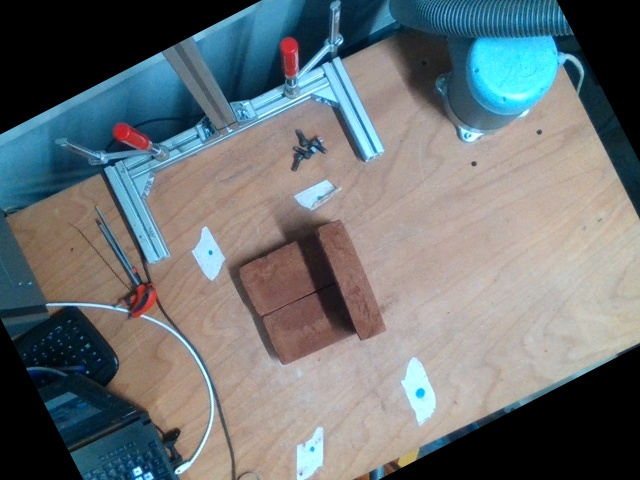brick-side: (315, 218, 384, 336)
